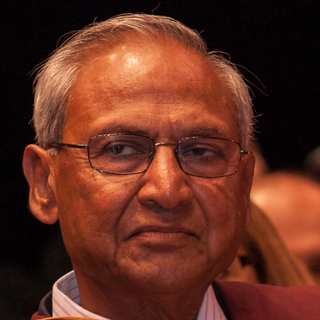eye: (95, 140, 142, 163), (180, 141, 225, 164)
